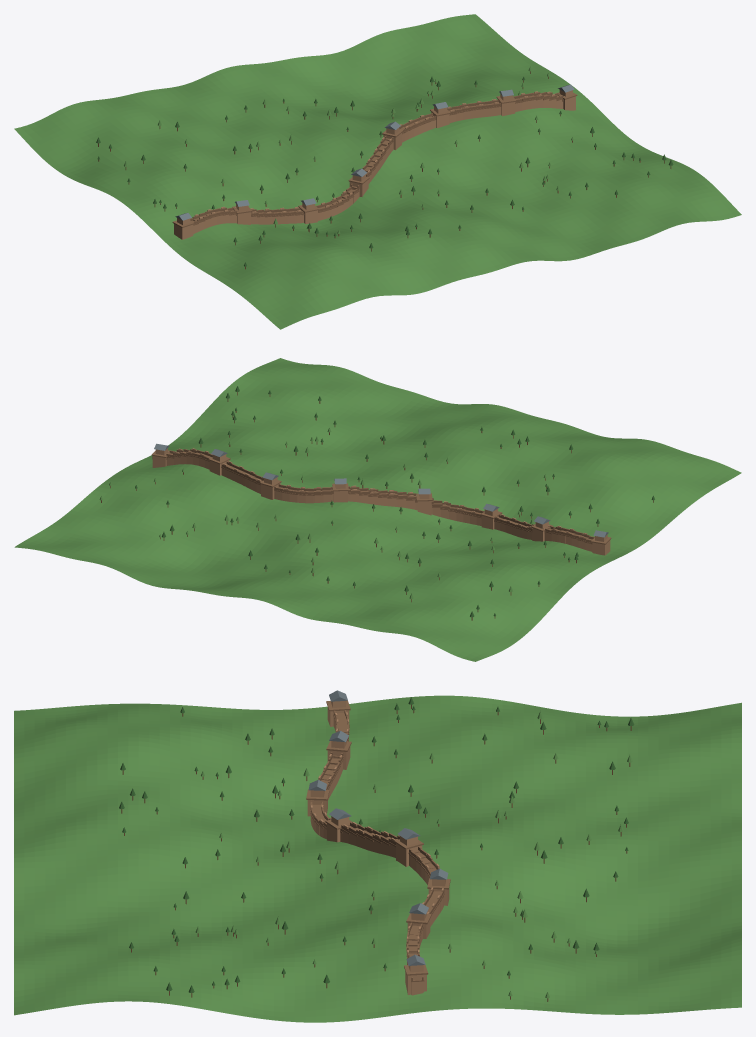
The model's file is GreatWall.glb.
3 renders of one model, top to bottom at view 1: azimuth 30°, elevation 25°; view 2: azimuth 150°, elevation 25°; view 3: azimuth 270°, elevation 25°, orthographic. The views are drawn at different scales.
Parts seen in each view (by area): view 1: GreatWall; view 2: GreatWall; view 3: GreatWall.
Part boxes in pixels (x1,y1,x2,y2): GreatWall: (14,14,741,329); GreatWall: (14,358,741,661); GreatWall: (14,690,741,1022).
Size of the model in its own units: 420 by 43.51 by 420.
